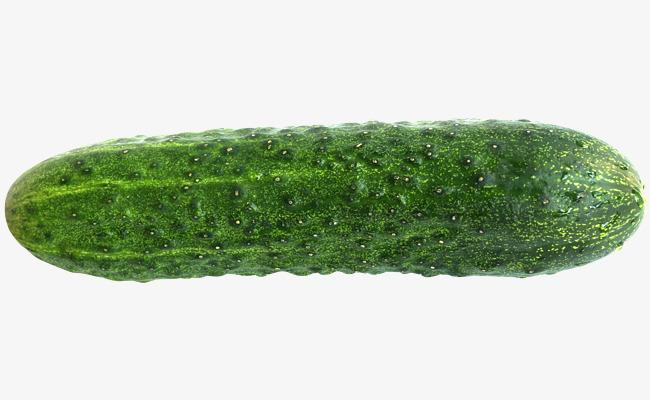cucumber: (6, 117, 646, 280)
